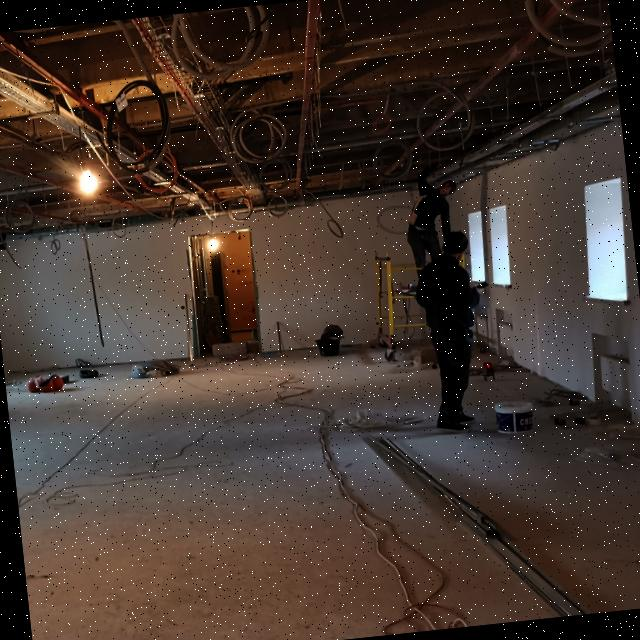NoHelmet: (440, 230, 471, 262), (438, 180, 460, 198)
